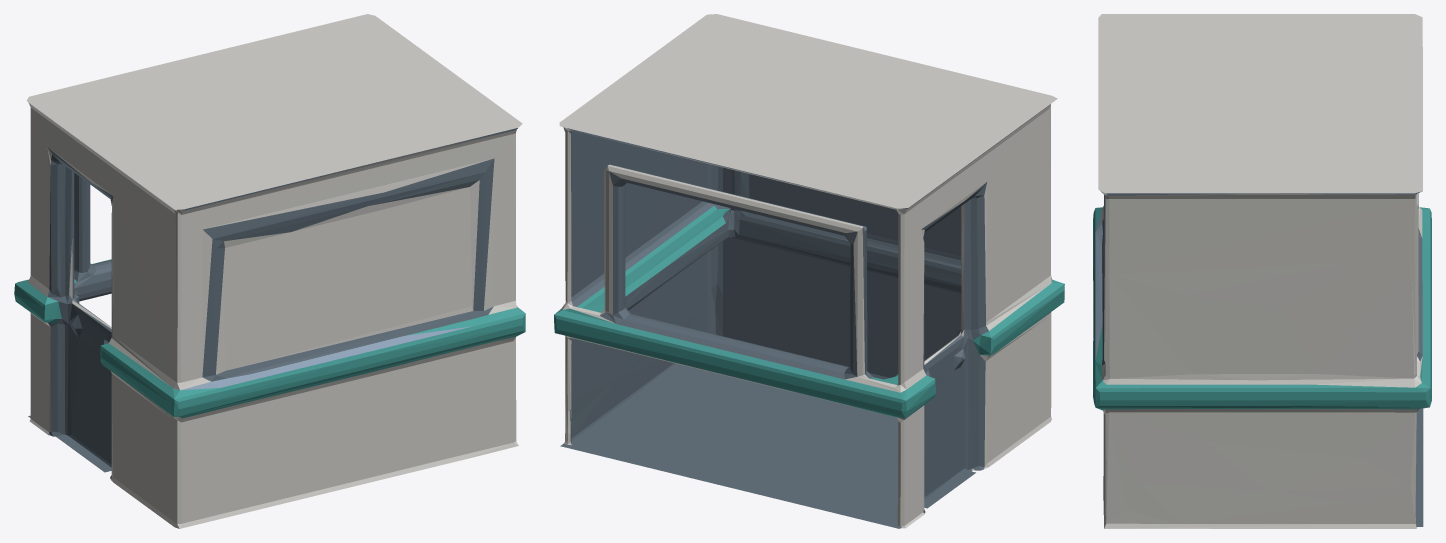
The model's file is etape-1.glb.
3 renders of one model, left to right at view 1: azimuth 30°, elevation 25°; view 2: azimuth 150°, elevation 25°; view 3: azimuth 270°, elevation 25°, orthographic. The views are drawn at different scales.
Parts seen in each view (by area): view 1: geometry_0; view 2: geometry_0; view 3: geometry_0.
Part boxes in pixels (x1,y1,x2,y2): geometry_0: [14, 14, 525, 528]; geometry_0: [554, 14, 1064, 528]; geometry_0: [1093, 14, 1431, 528].
Bounding box in the file's own units: 0.6753 × 0.5844 × 0.5315.
